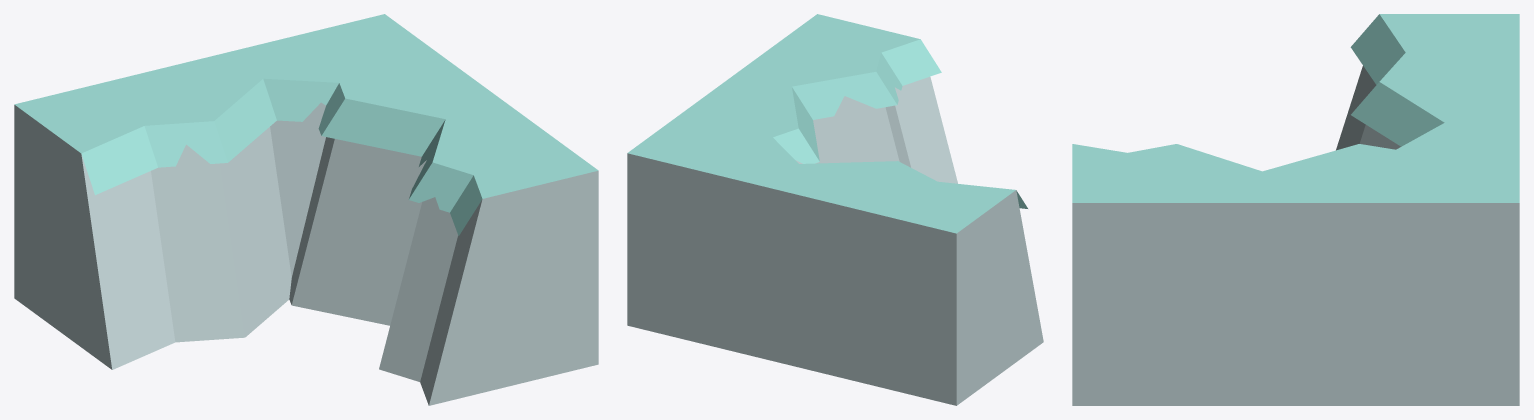
File: cliffGrey_halfCornerInner.glb
3 views of the same model, side by side, from view 1: azimuth 30°, elevation 25°; view 2: azimuth 150°, elevation 25°; view 3: azimuth 270°, elevation 25° (orthographic). The views are drawn at different scales.
Parts seen in each view (by area): view 1: cliffGrey_halfCornerInner; view 2: cliffGrey_halfCornerInner; view 3: cliffGrey_halfCornerInner.
Part boxes in pixels (<box>): cliffGrey_halfCornerInner: <box>14,14,598,405</box>; cliffGrey_halfCornerInner: <box>627,14,1043,405</box>; cliffGrey_halfCornerInner: <box>1072,14,1519,405</box>.
Size of the model in its own units: 1 by 0.5 by 1.
